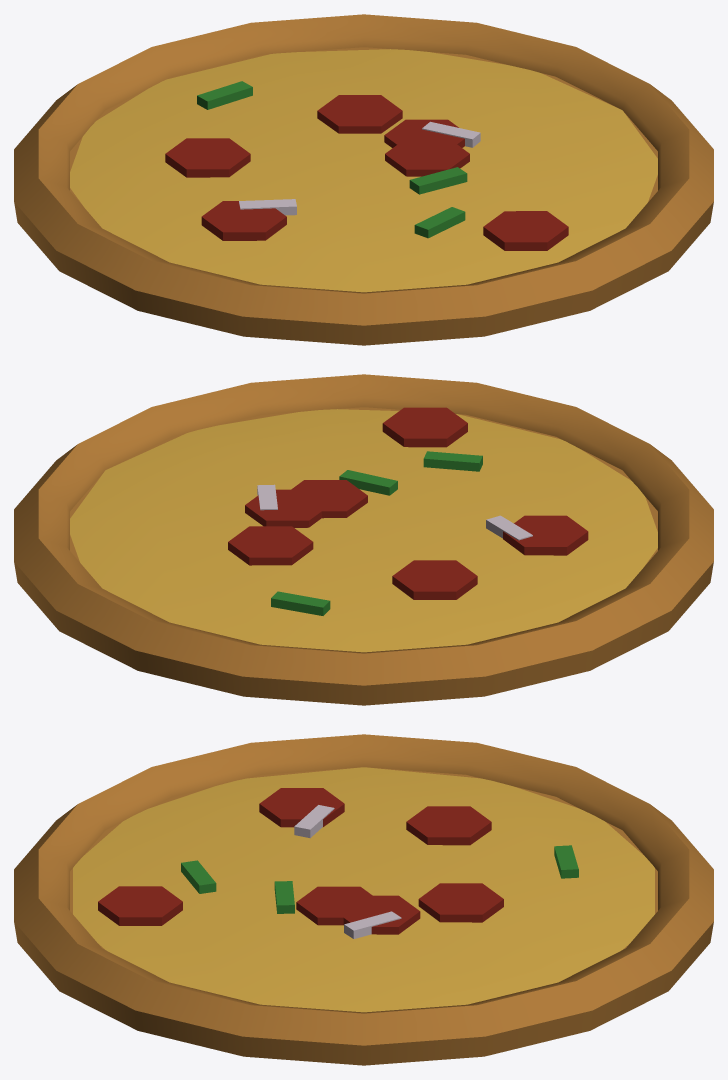
The model's file is pizza.glb.
3 renders of one model, top to bottom at view 1: azimuth 30°, elevation 25°; view 2: azimuth 150°, elevation 25°; view 3: azimuth 270°, elevation 25°, orthographic.
Visible parts, largest first — view 1: BODY; view 2: BODY; view 3: BODY.
Part boxes in pixels (left/top/right/bottom): BODY: left=14, top=14, right=713, bottom=345; BODY: left=14, top=374, right=713, bottom=705; BODY: left=14, top=734, right=713, bottom=1065.
Bounding box in the file's own units: 0.3 × 0.02 × 0.2955.
